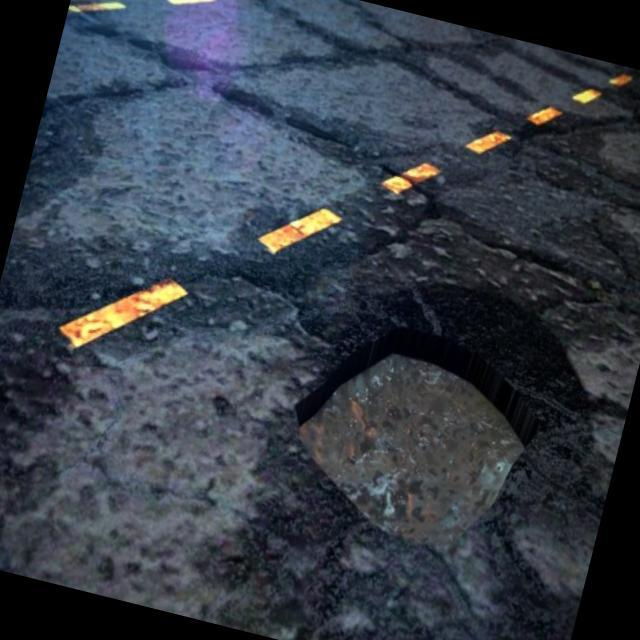Pothole: (225, 249, 599, 640)
